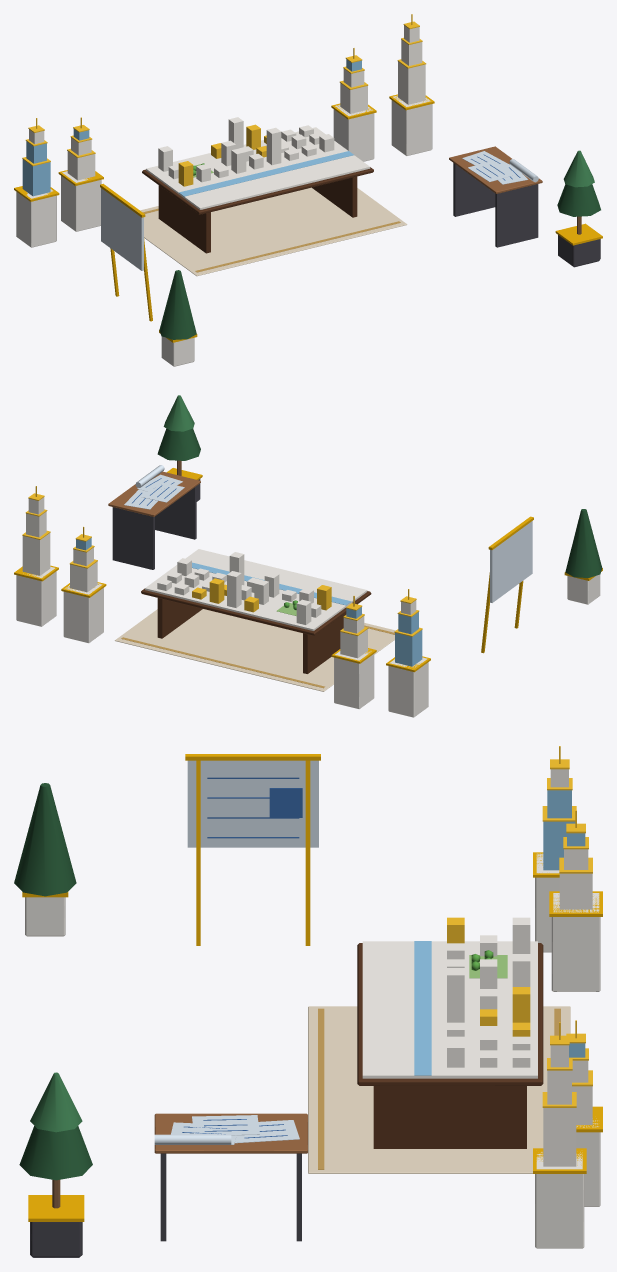
Rendered from einrichtung_immobilien.glb.
3 views of the same model, one above another, from view 1: azimuth 30°, elevation 25°; view 2: azimuth 150°, elevation 25°; view 3: azimuth 270°, elevation 25° (orthographic). The views are drawn at different scales.
Visible parts, largest first — view 1: einrichtung_immobilien; view 2: einrichtung_immobilien; view 3: einrichtung_immobilien.
Boxes of the visible parts, box(x1,y1,x2,y2) form: einrichtung_immobilien: box(14, 14, 602, 366); einrichtung_immobilien: box(14, 395, 602, 717); einrichtung_immobilien: box(14, 746, 602, 1257).
Size of the model in its own units: 7.52 by 2.18 by 5.38.
